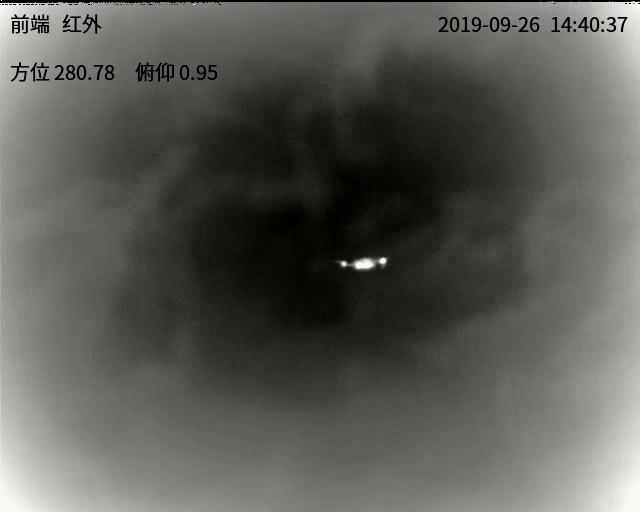DRONE: (337, 255, 389, 270)
